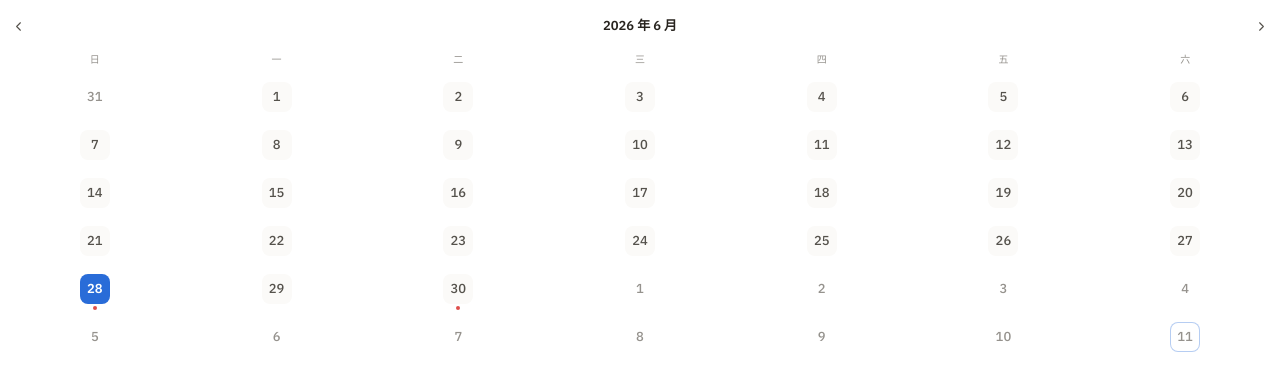
Test case: ScheduleCalendarPanel › can navigate to another month
Click the button named "下个月".
click(1262, 26)  # box [1248,12,1276,40]
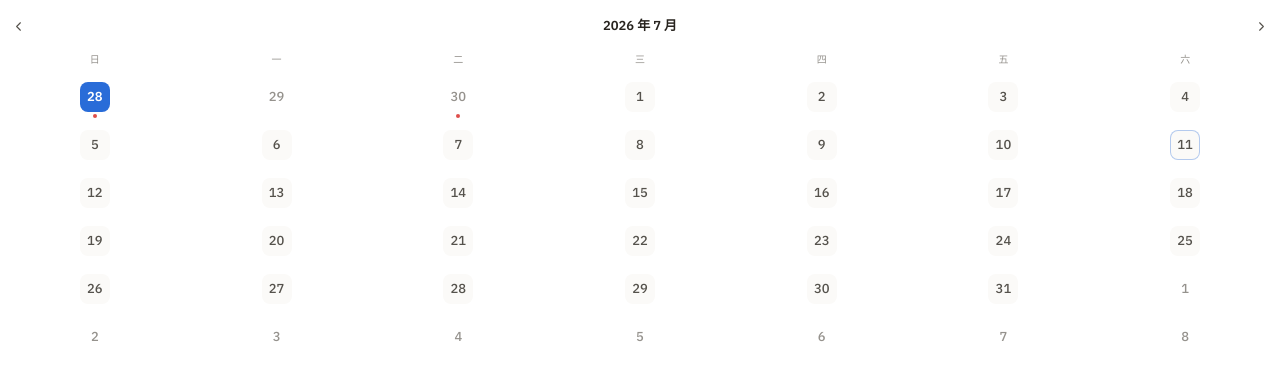
Check: the text "2026 年 7 月" is shown, box [603,16,677,36]
